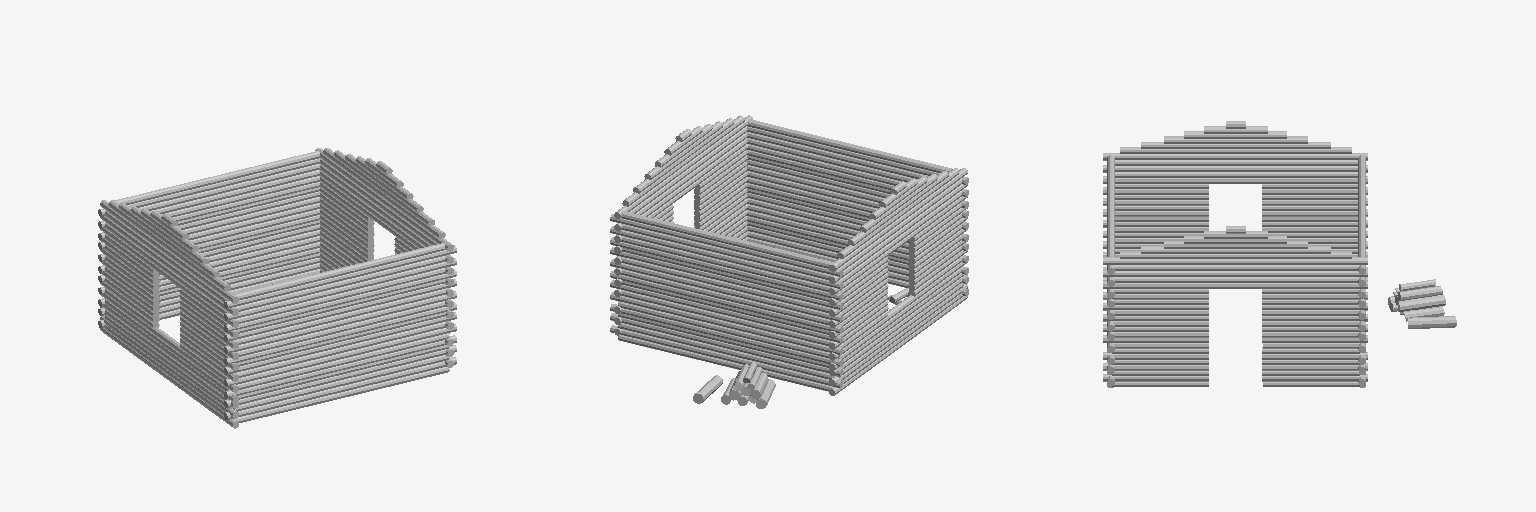
Rendered from DarkWood.obj.
The picture shows the model from 3 angles: view 1: azimuth 30°, elevation 25°; view 2: azimuth 150°, elevation 25°; view 3: azimuth 270°, elevation 25°; orthographic projection.
Visible parts, largest first — view 1: DarkWood; view 2: DarkWood; view 3: DarkWood.
Boxes of the visible parts, <box> form: DarkWood: <box>98,148,456,428</box>; DarkWood: <box>610,115,968,408</box>; DarkWood: <box>1103,121,1456,387</box>.
Bounding box in the file's own units: 48.97 × 33.19 × 65.35.